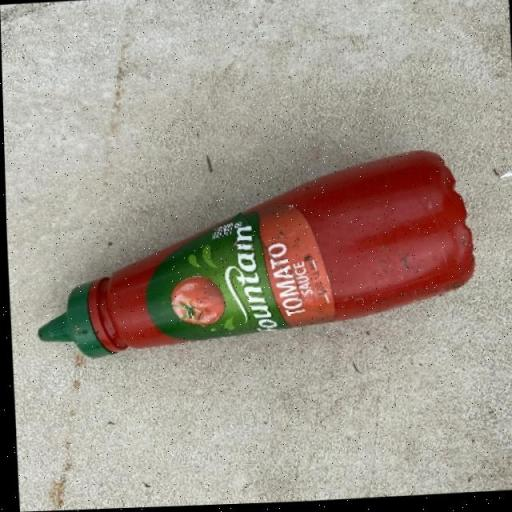plastic: (27, 149, 476, 361)
